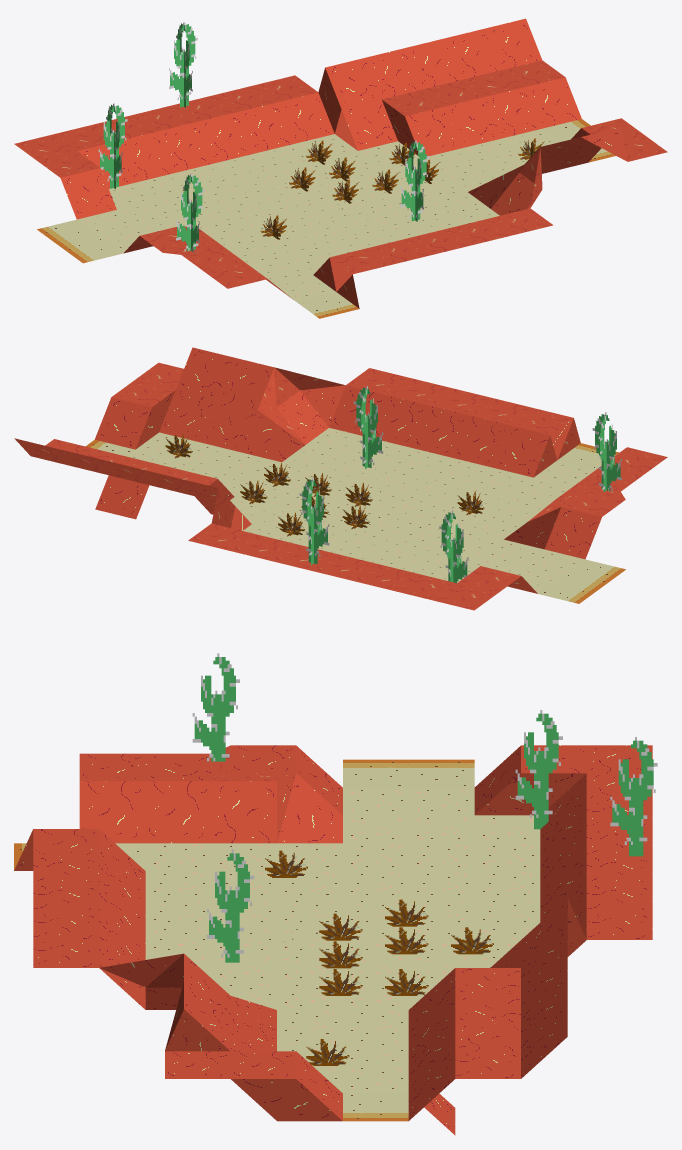
File: BlockTile_1783783028.glb
3 views of the same model, one above another, from view 1: azimuth 30°, elevation 25°; view 2: azimuth 150°, elevation 25°; view 3: azimuth 270°, elevation 25° (orthographic). The views are drawn at different scales.
Parts seen in each view (by area): view 1: loose, group_77B066D0, group_94313F4A, group_5E7EA0A8; view 2: loose, group_77B066D0, group_5E7EA0A8, group_94313F4A; view 3: loose, group_94313F4A, group_77B066D0, group_5E7EA0A8.
Part boxes in pixels (x1,y1,x2,y2): loose: (14,18,667,318); group_77B066D0: (400,140,429,221); group_94313F4A: (98,103,127,188); group_5E7EA0A8: (176,174,204,252); loose: (14,347,667,610); group_77B066D0: (353,386,383,468); group_5E7EA0A8: (592,412,621,491); group_94313F4A: (439,510,468,583); loose: (14,737,657,1135); group_94313F4A: (515,710,562,829); group_77B066D0: (207,849,254,962); group_5E7EA0A8: (192,653,239,761).
Size of the model in its own units: 13 by 3.46 by 9.94.
5 materials, 5 textured.
